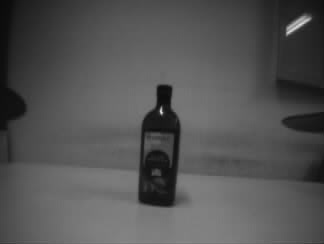Bottle: (138, 85, 181, 207)
